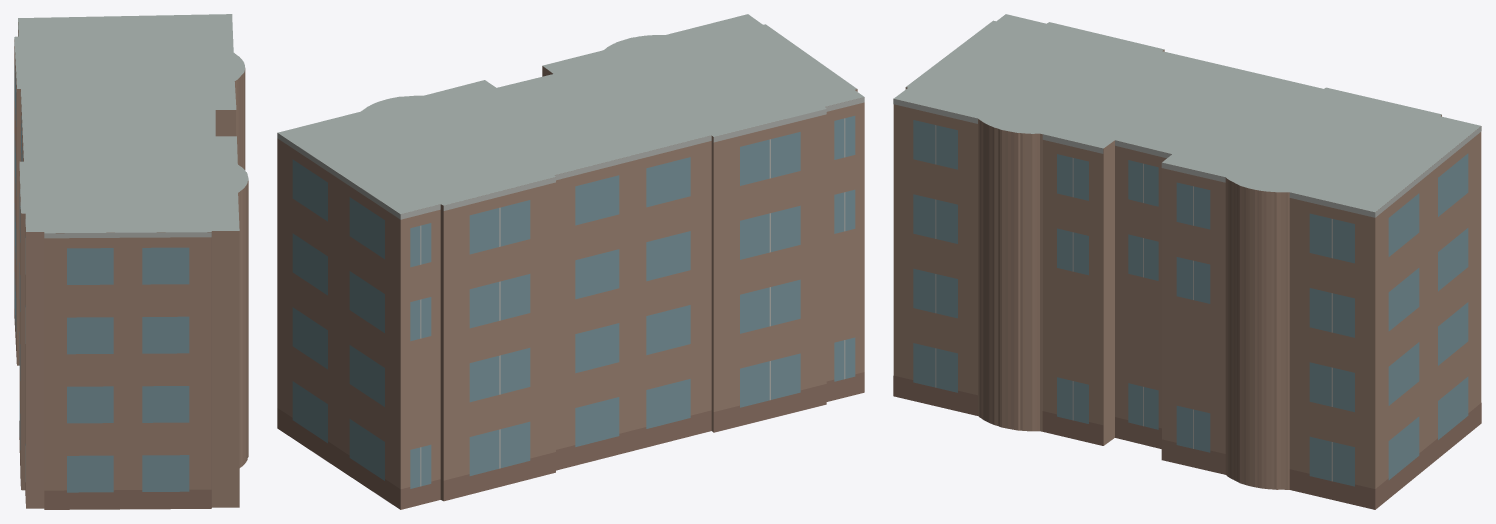
File: survey-upis-32657513.glb
The picture shows the model from 3 angles, left to right: view 1: azimuth 30°, elevation 25°; view 2: azimuth 150°, elevation 25°; view 3: azimuth 270°, elevation 25°; orthographic projection. The views are drawn at different scales.
Parts seen in each view (by area): view 1: survey-upis-32657513.tmp; view 2: survey-upis-32657513.tmp; view 3: survey-upis-32657513.tmp.
Part boxes in pixels (x1=…): survey-upis-32657513.tmp: x1=14, y1=14, x2=248, y2=509; survey-upis-32657513.tmp: x1=277, y1=14, x2=864, y2=509; survey-upis-32657513.tmp: x1=893, y1=14, x2=1481, y2=509.
Bounding box in the file's own units: 18.88 × 13.2 × 23.65.
